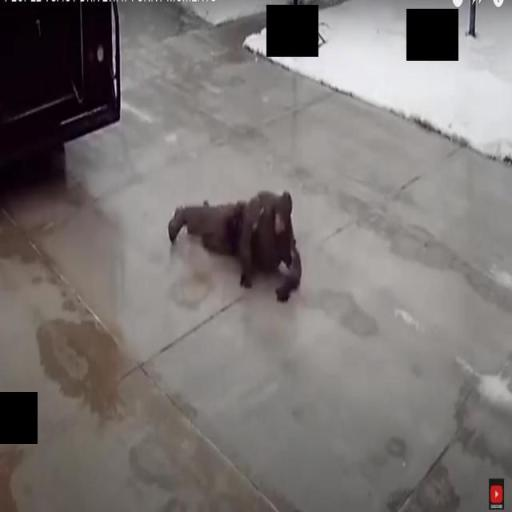Fall: (167, 176, 306, 305), (490, 479, 509, 511)
